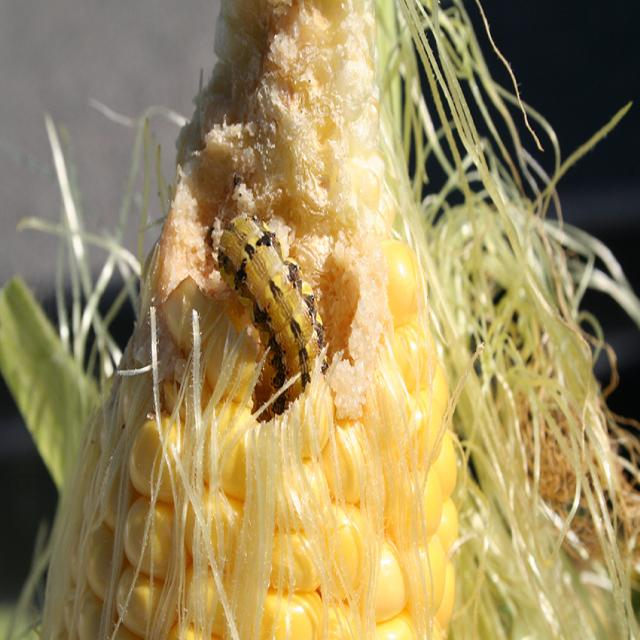Corn-earworm: (224, 214, 326, 406)
